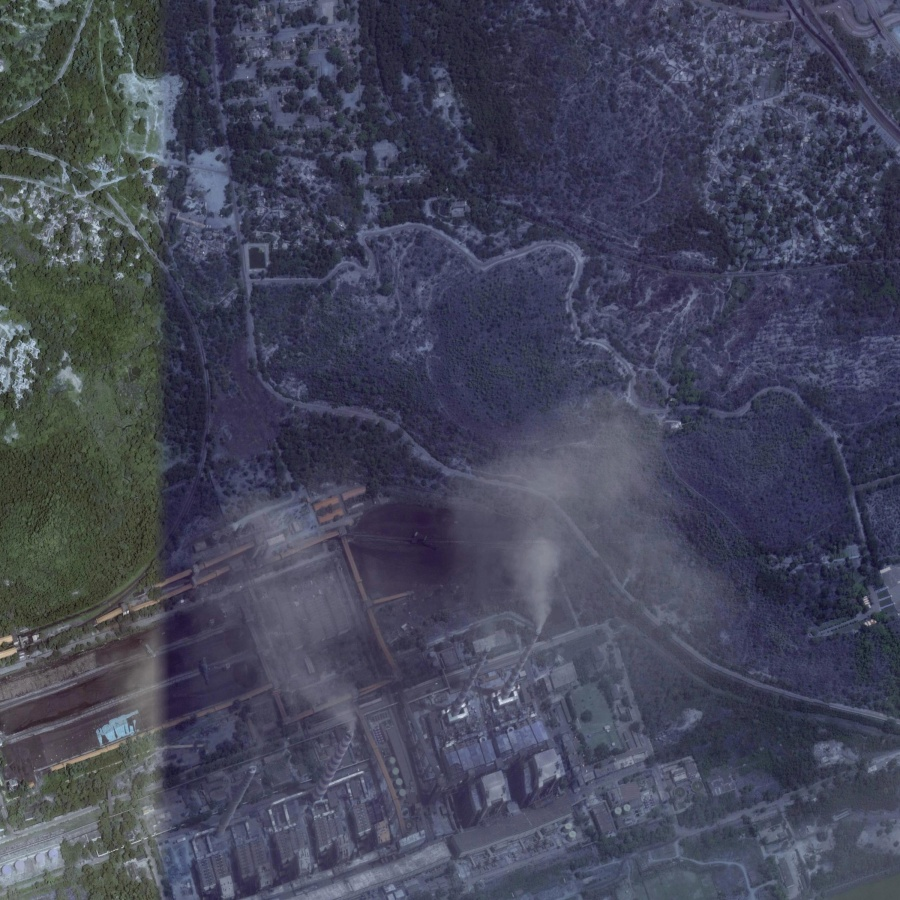PowerPlant: (189, 481, 644, 894)
